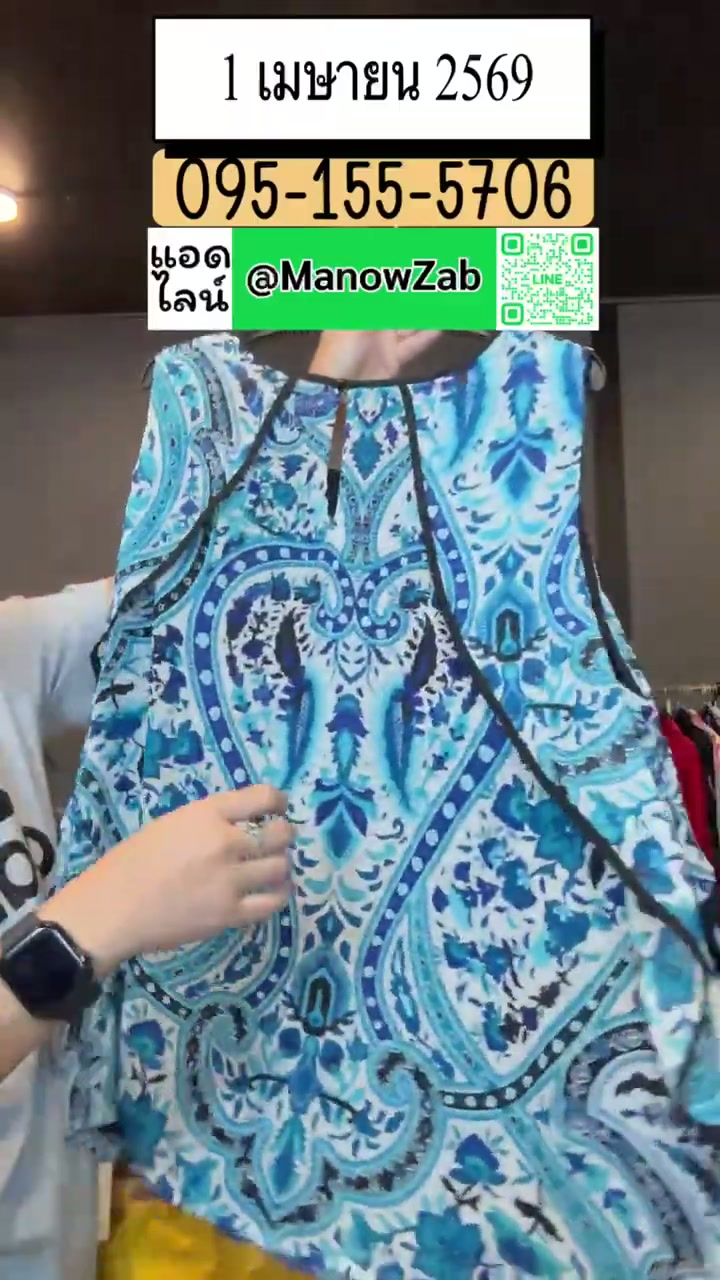display_shirt: (61, 330, 719, 1279)
